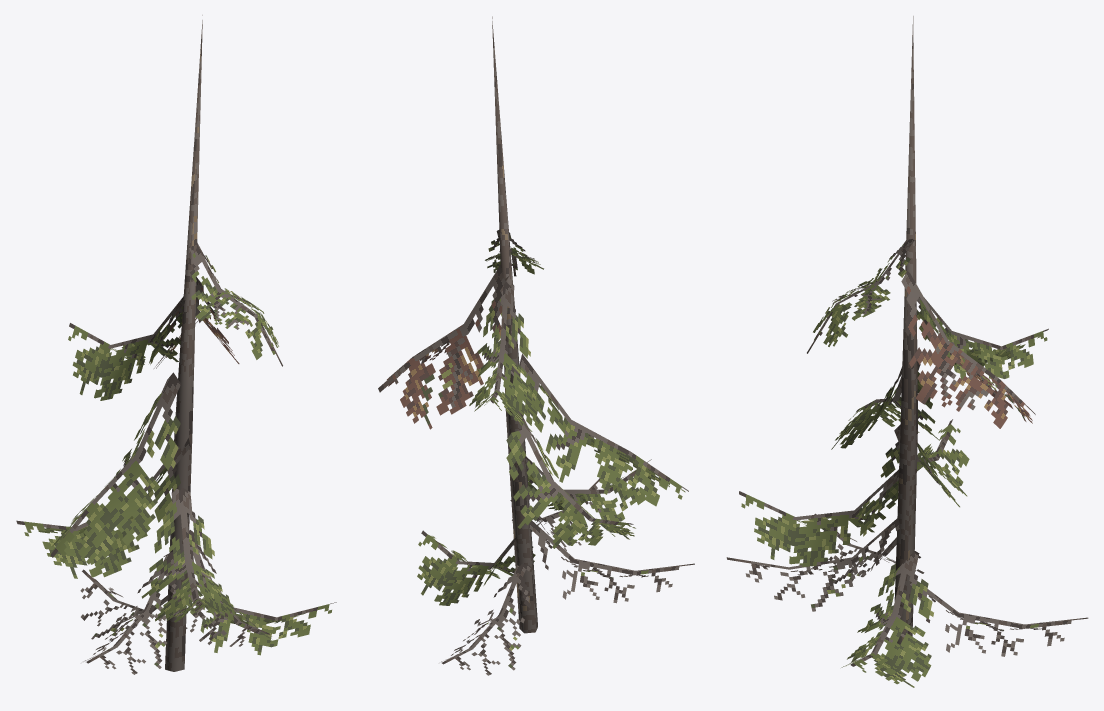
Rendered from SpruceSapling2.glb.
The picture shows the model from 3 angles, left to right: view 1: azimuth 30°, elevation 25°; view 2: azimuth 150°, elevation 25°; view 3: azimuth 270°, elevation 25°; orthographic projection. The views are drawn at different scales.
Parts seen in each view (by area): view 1: SpruceSapling2; view 2: SpruceSapling2; view 3: SpruceSapling2.
Boxes of the visible parts, x1,y1,x2,y2 form: SpruceSapling2: (16, 15, 336, 674); SpruceSapling2: (378, 16, 694, 675); SpruceSapling2: (726, 16, 1088, 687).
Bounding box in the file's own units: 2.87 × 6.06 × 3.05.
2 materials, 2 textured.
